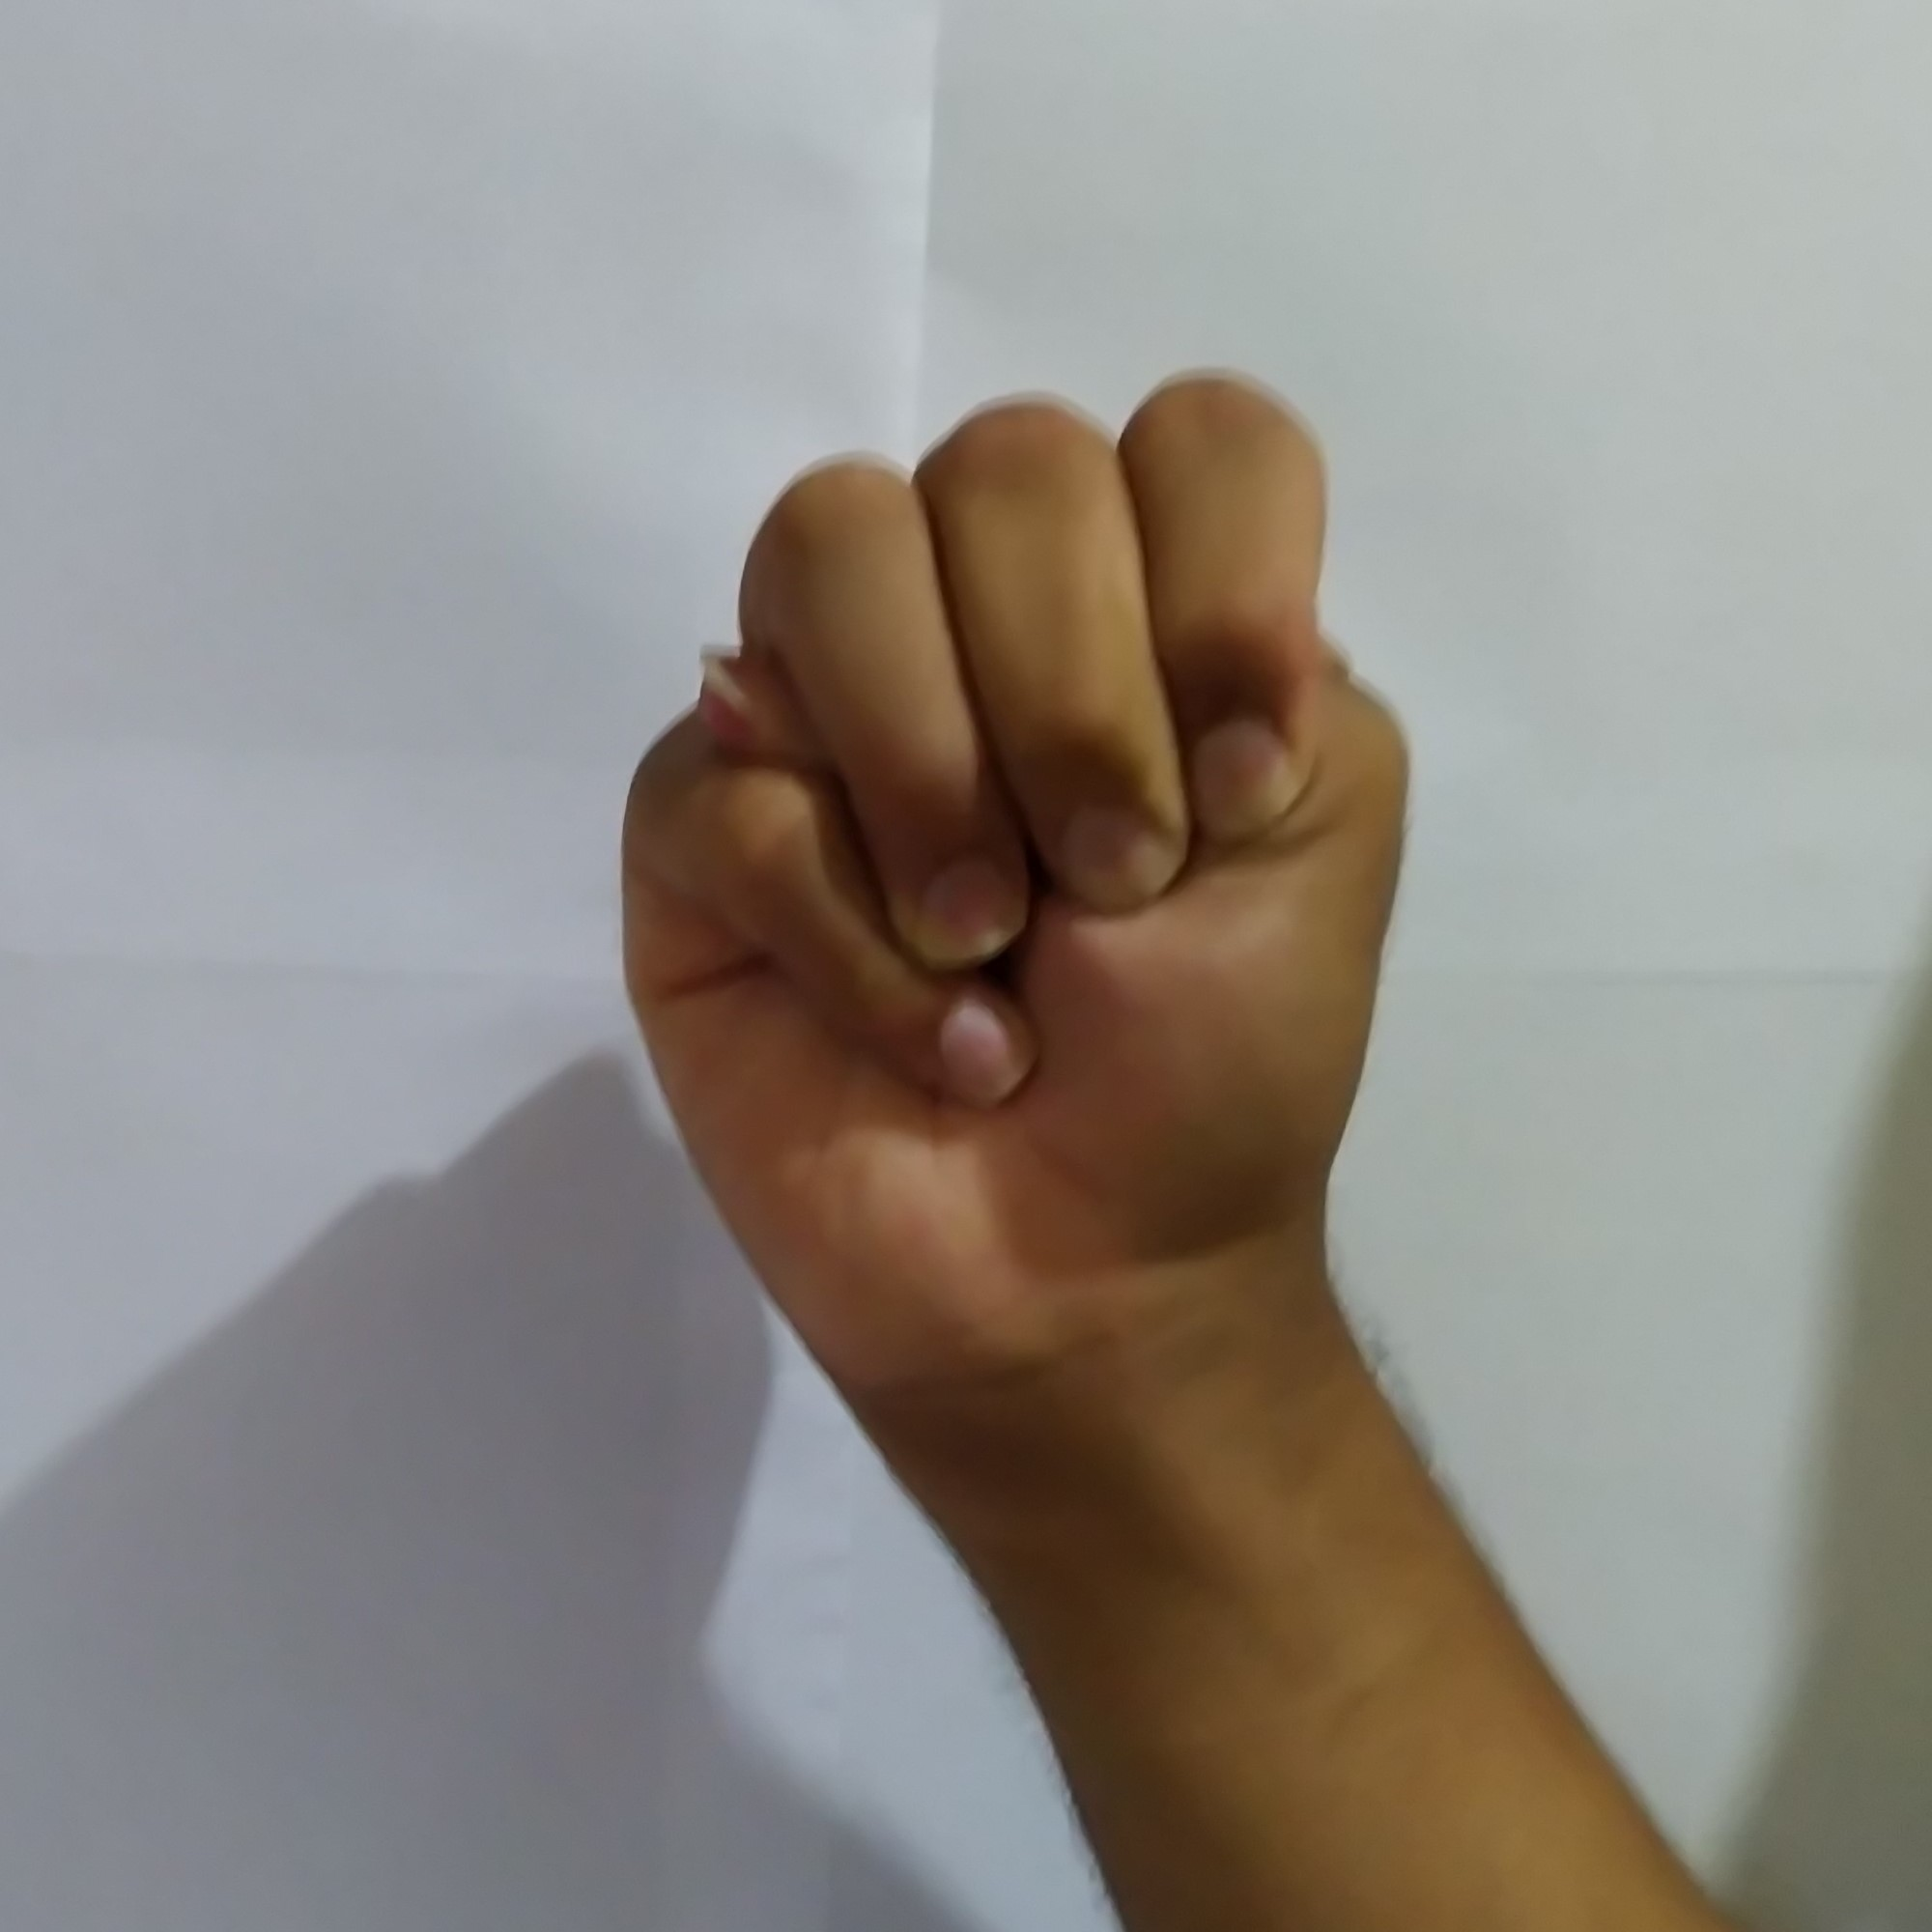M: (587, 343, 1437, 1341)
